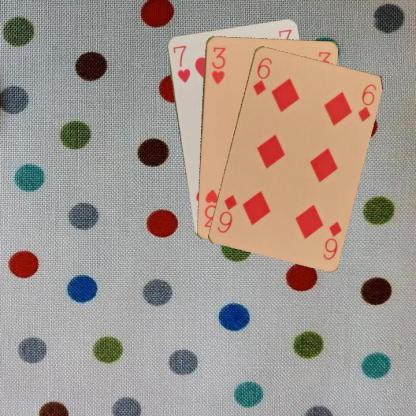3h: (208, 44, 226, 85)
6d: (250, 54, 273, 96), (320, 218, 343, 260)
7h: (170, 42, 191, 84)
